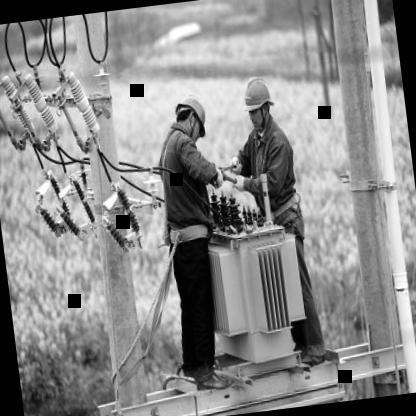helmet: (238, 72, 276, 133), (171, 90, 211, 144)
